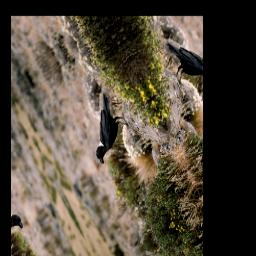Crow: (74, 86, 137, 169)
